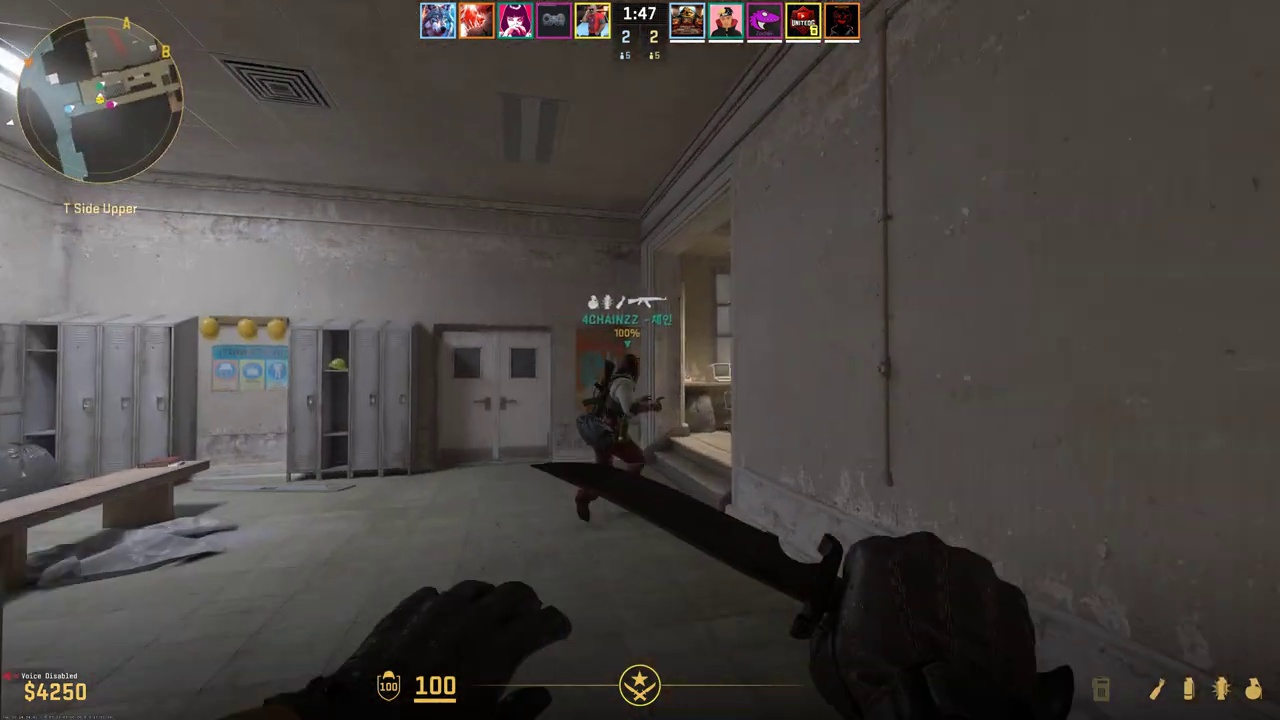Terrorist: (575, 355, 651, 524)
